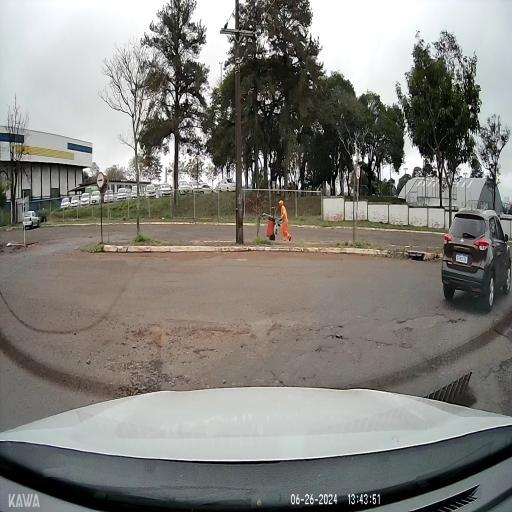R-24a: (96, 172, 105, 188)
